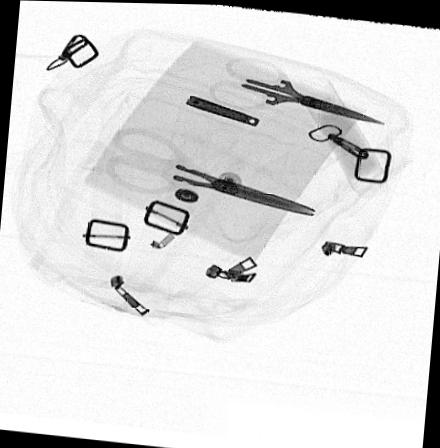Scissors: (96, 125, 317, 217), (207, 54, 384, 124)
